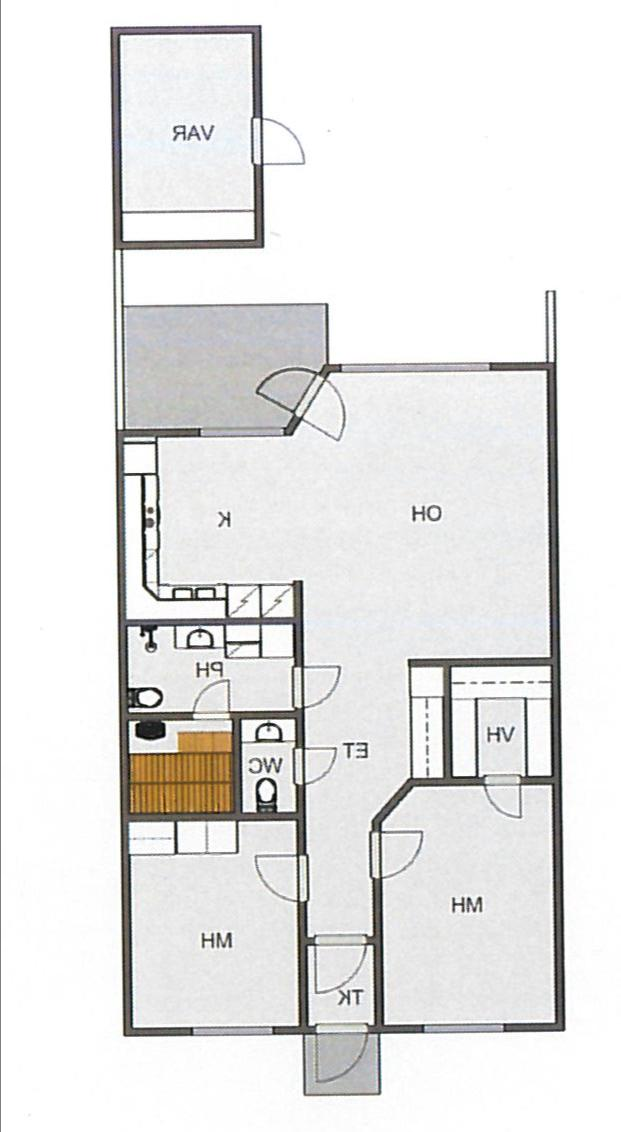bathroom: (123, 620, 298, 712)
door: (304, 1020, 372, 1090), (308, 932, 368, 1003), (253, 365, 322, 422), (298, 372, 352, 442), (254, 847, 312, 904), (364, 828, 424, 883), (248, 115, 312, 165), (478, 770, 524, 826), (287, 660, 340, 707), (191, 678, 238, 726), (292, 744, 344, 782)
perimeter: (120, 361, 558, 1036), (111, 19, 264, 252)
window: (334, 353, 500, 380), (189, 416, 290, 444), (411, 1012, 510, 1040), (181, 1019, 280, 1036)
